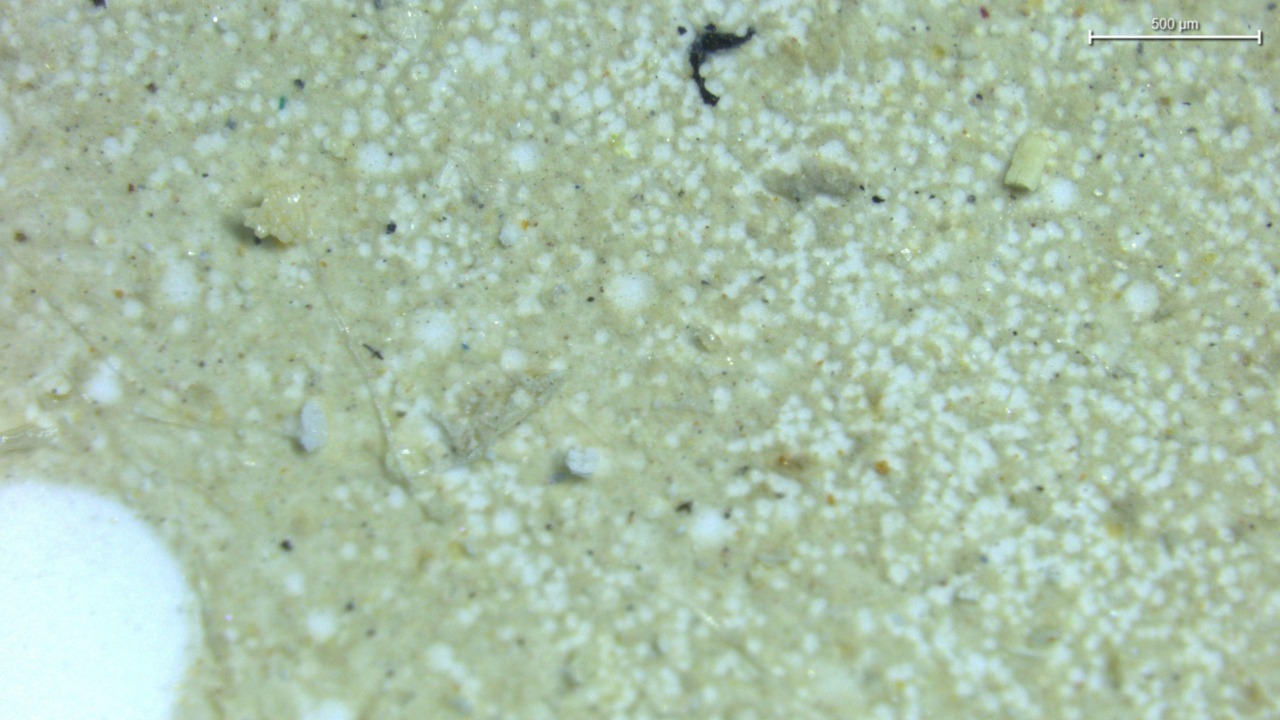microplastic_fragment: (244, 172, 313, 243), (1004, 132, 1055, 191), (298, 400, 327, 452), (566, 445, 600, 477), (499, 218, 530, 247)
